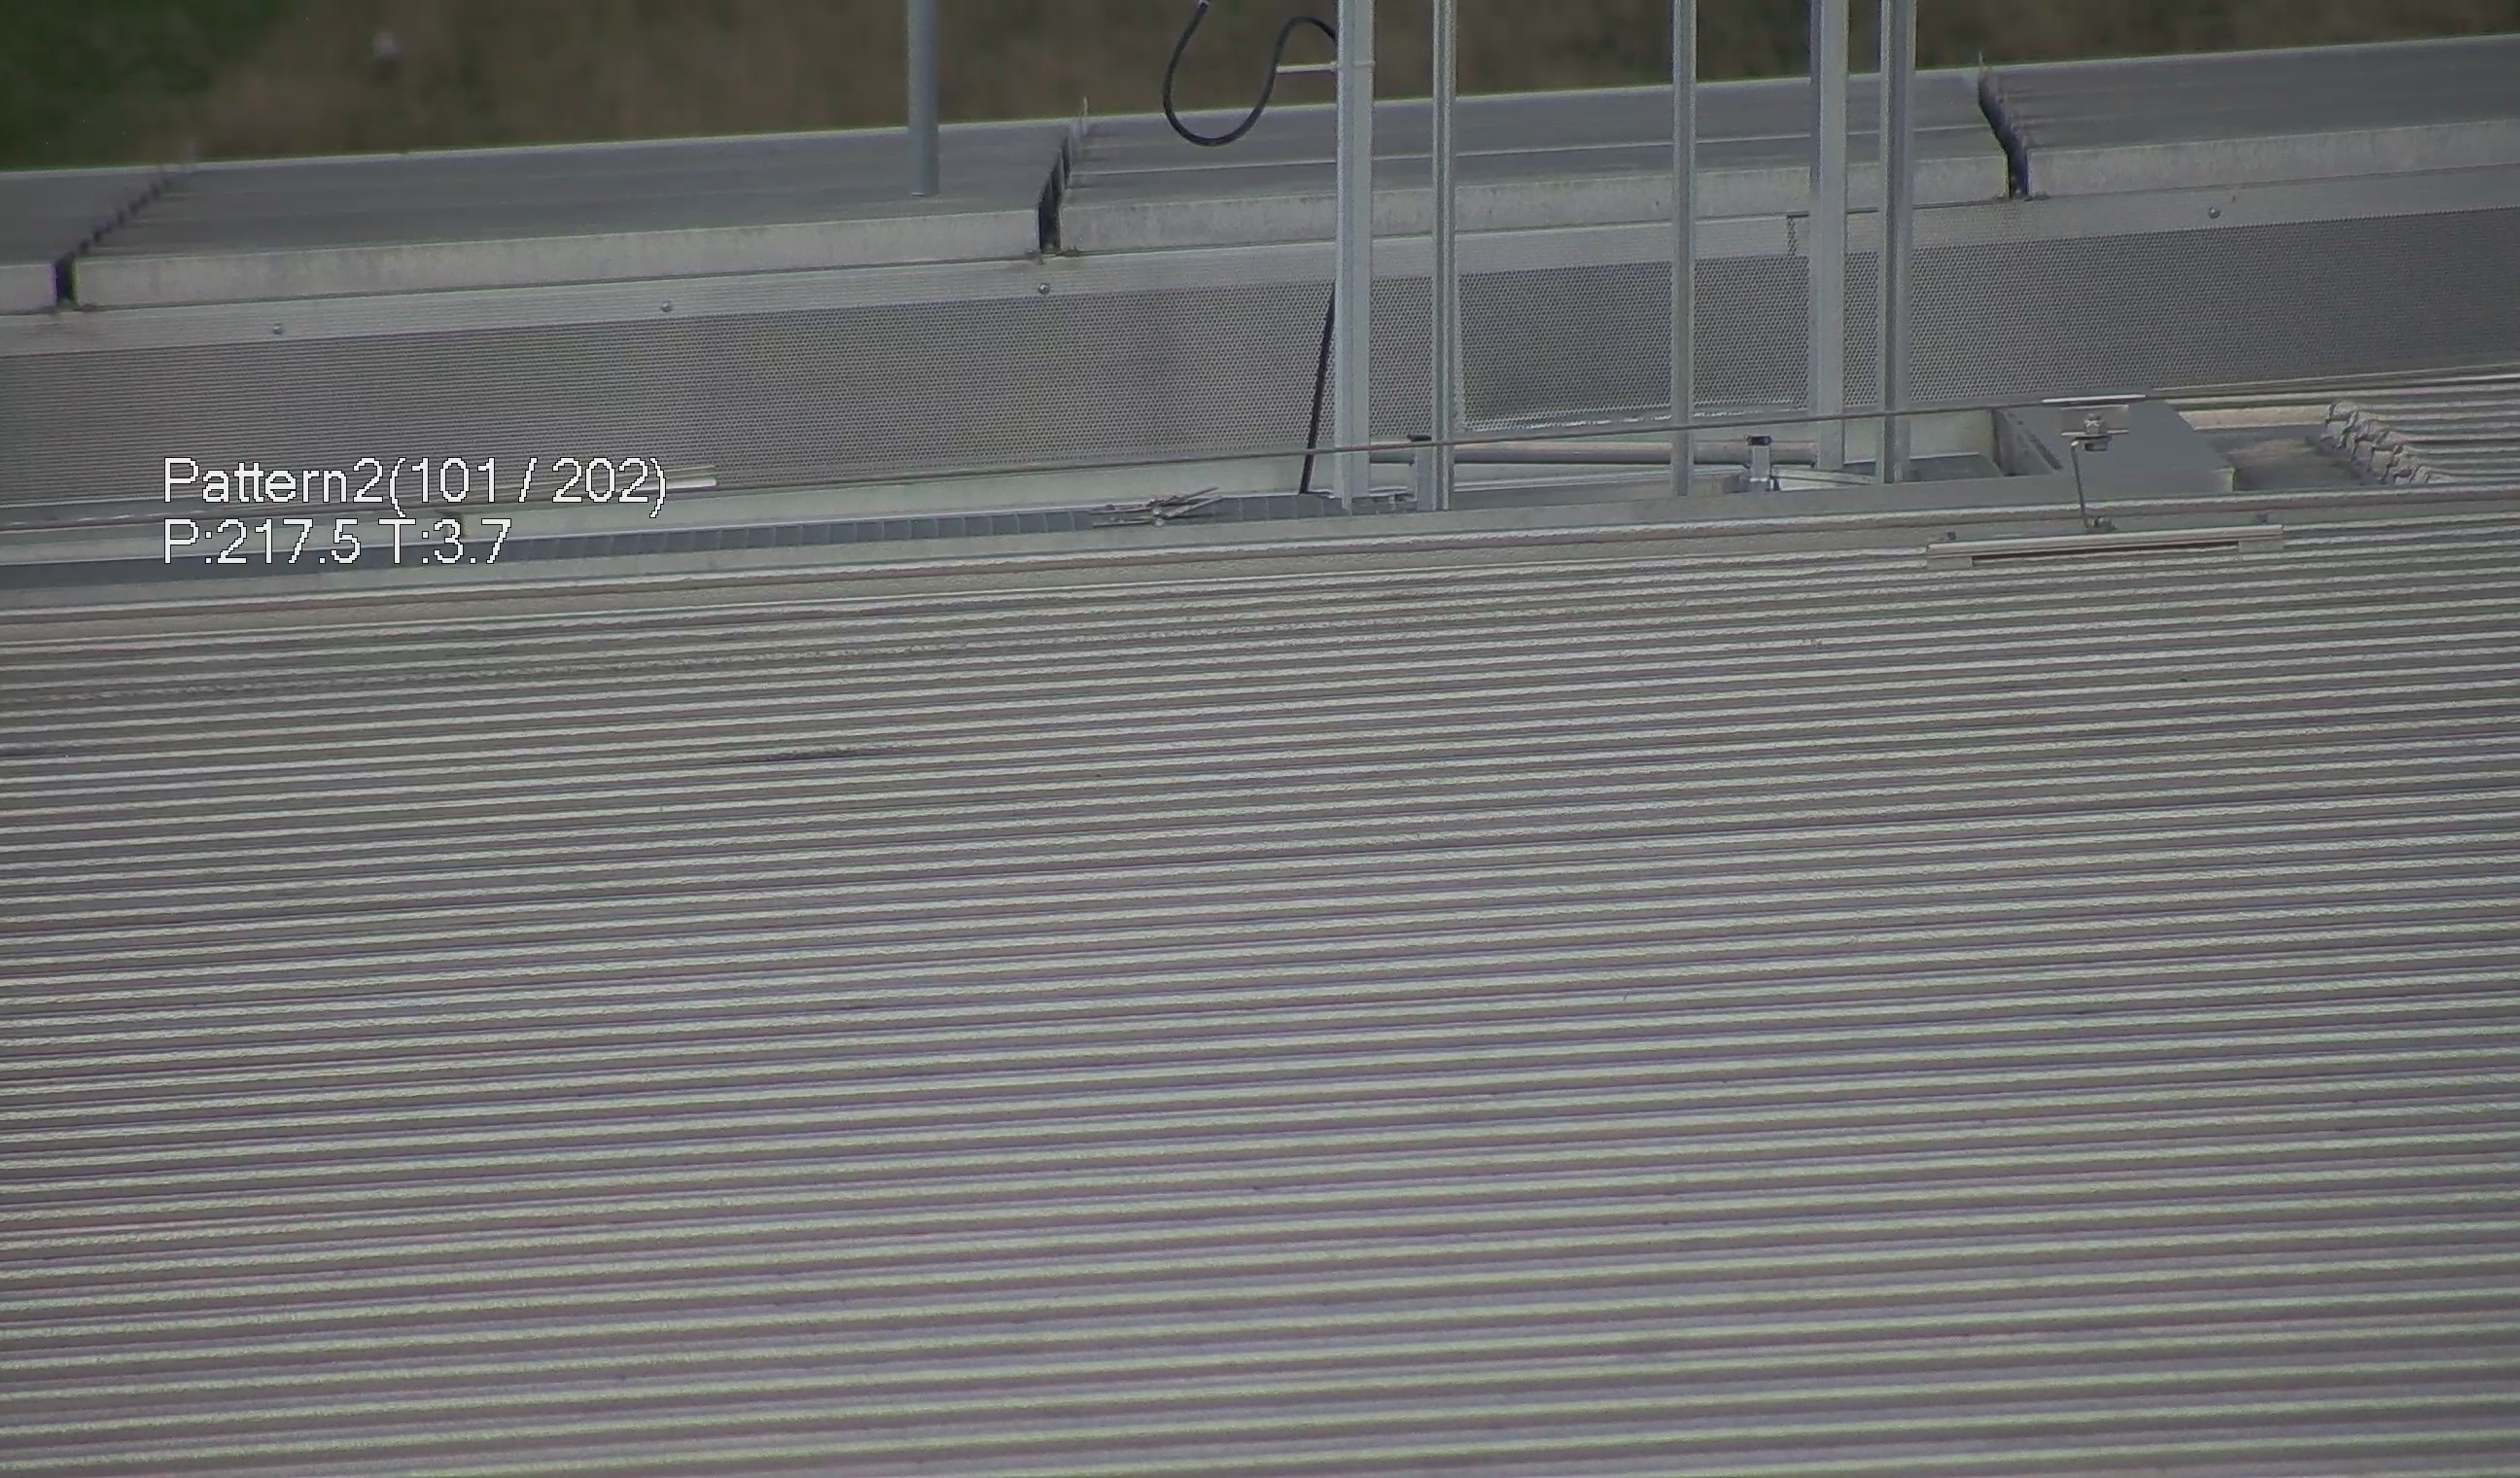Other: (1977, 62, 2063, 211)
